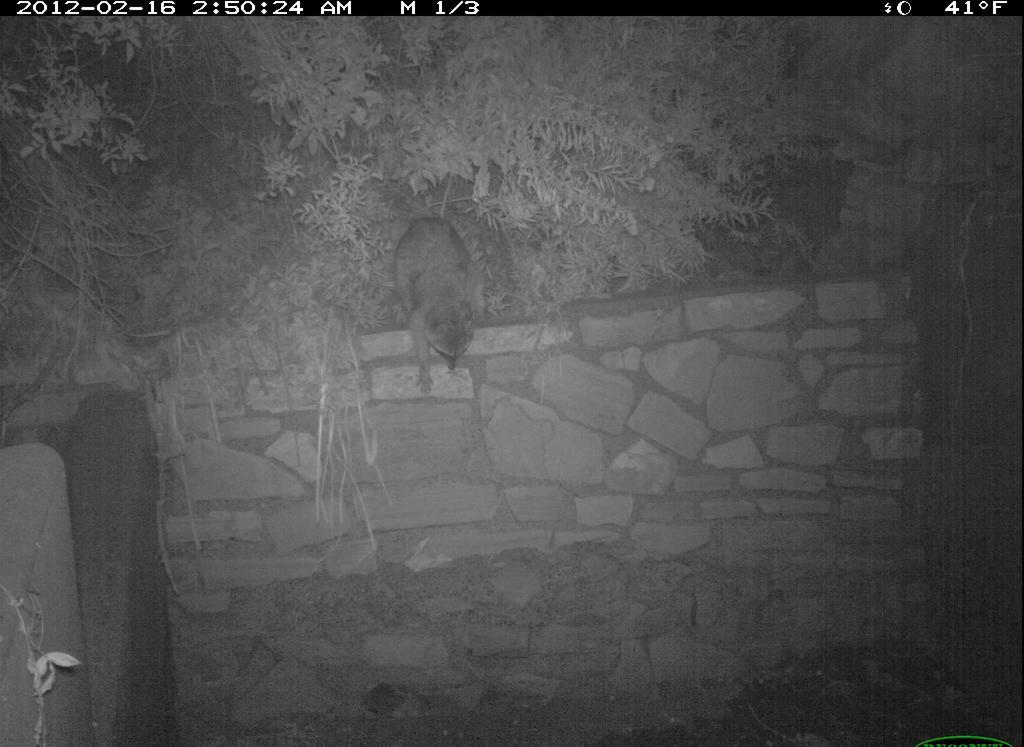raccoon: (386, 199, 504, 393)
